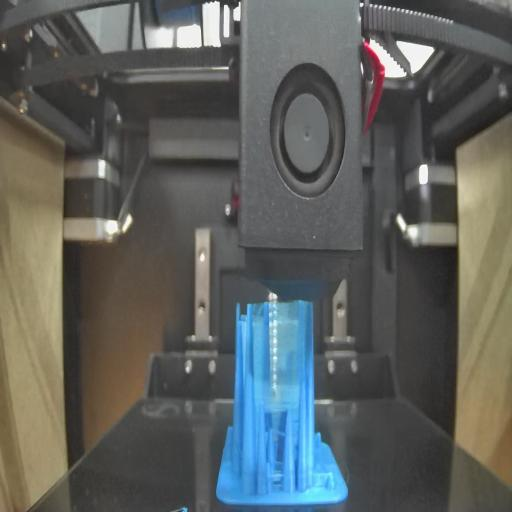stringing: (251, 296, 303, 412), (264, 421, 286, 490), (311, 468, 334, 492)
